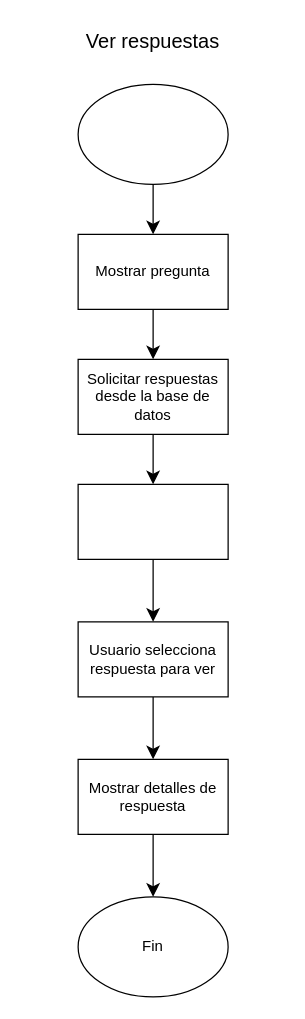
This 305x1019 diagram has some shape labels left out. Here are the shapes that lost their labels. From the top down, the centre of each, then its label:
At (x=152, y=133): "Inicio".
At (x=152, y=521): "Mostrar lista de respuestas".
